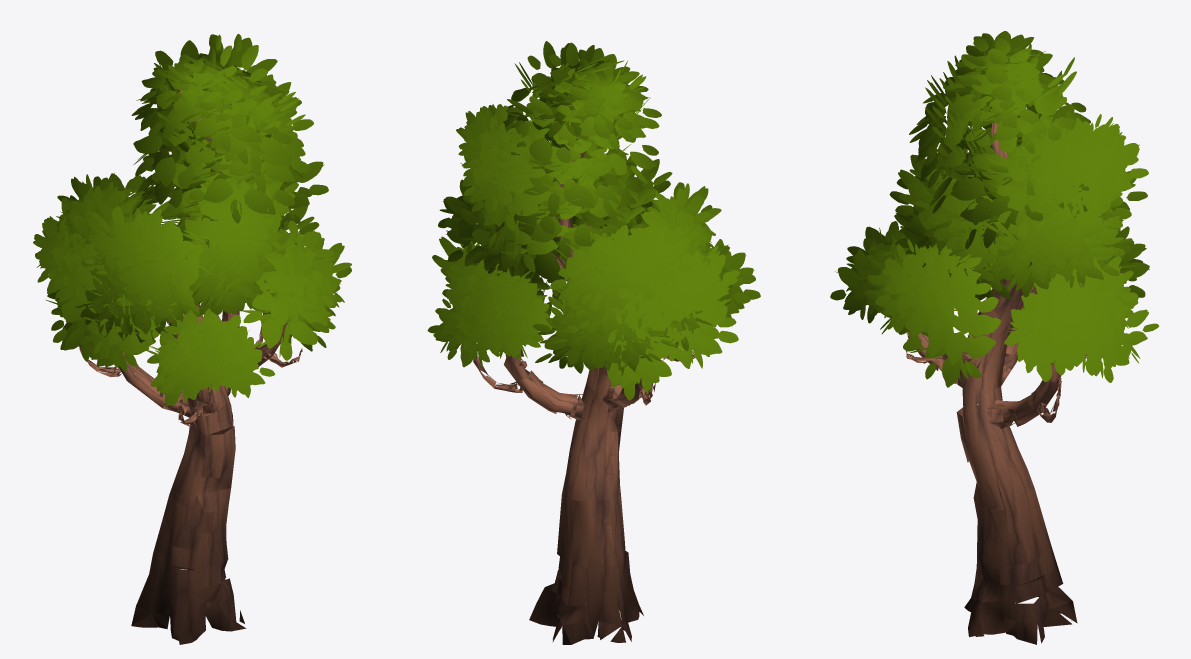
The model's file is FarTree_2.glb.
3 renders of one model, left to right at view 1: azimuth 30°, elevation 25°; view 2: azimuth 150°, elevation 25°; view 3: azimuth 270°, elevation 25°, orthographic. The views are drawn at different scales.
Visible parts, largest first — view 1: CommonTree_2, CommonTree_2_bark; view 2: CommonTree_2, CommonTree_2_bark; view 3: CommonTree_2, CommonTree_2_bark.
Part boxes in pixels (<box>): CommonTree_2: <box>33,33,351,406</box>; CommonTree_2_bark: <box>79,90,302,644</box>; CommonTree_2: <box>427,41,760,400</box>; CommonTree_2_bark: <box>473,138,695,644</box>; CommonTree_2: <box>830,31,1158,387</box>; CommonTree_2_bark: <box>906,122,1086,644</box>.
Size of the model in its own units: 4.46 by 7.68 by 4.28.
Materials: 2 (2 with a texture image).
